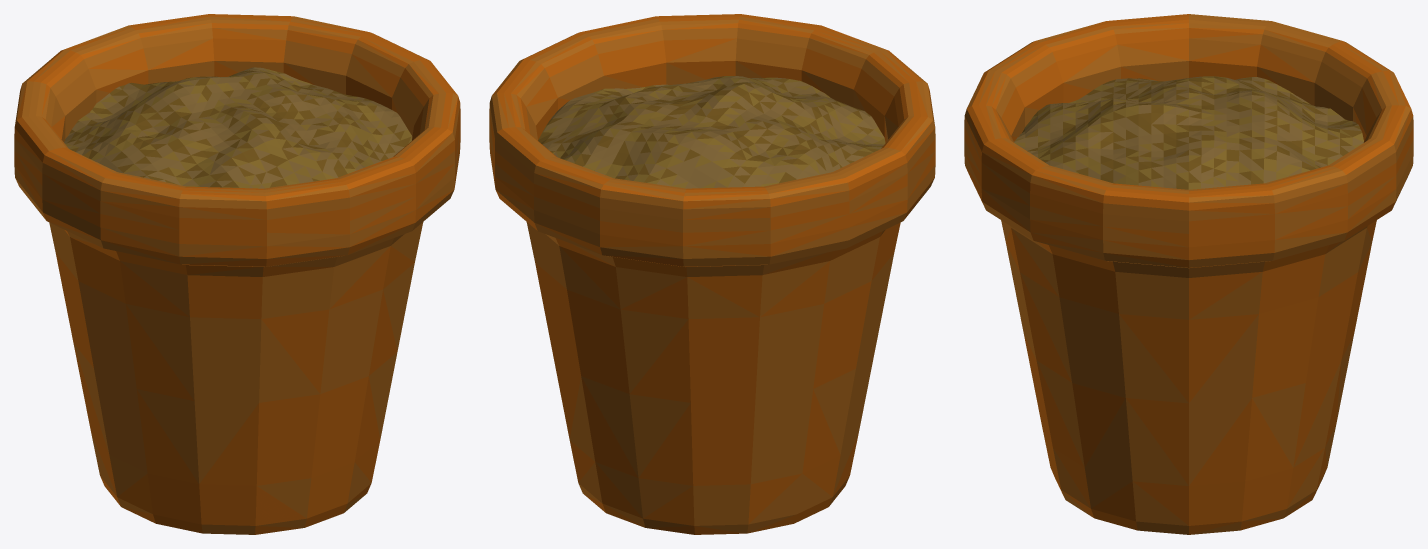
The model's file is горшок2.fbx.
The picture shows the model from 3 angles, left to right: view 1: azimuth 30°, elevation 25°; view 2: azimuth 150°, elevation 25°; view 3: azimuth 270°, elevation 25°; orthographic projection.
Visible parts, largest first — view 1: горшок; view 2: горшок; view 3: горшок.
Part boxes in pixels (bbox=[...]): горшок: bbox=[14, 14, 460, 534]; горшок: bbox=[489, 14, 935, 534]; горшок: bbox=[964, 14, 1413, 534].
Size of the model in its own units: 13.41 by 12.39 by 13.41.
